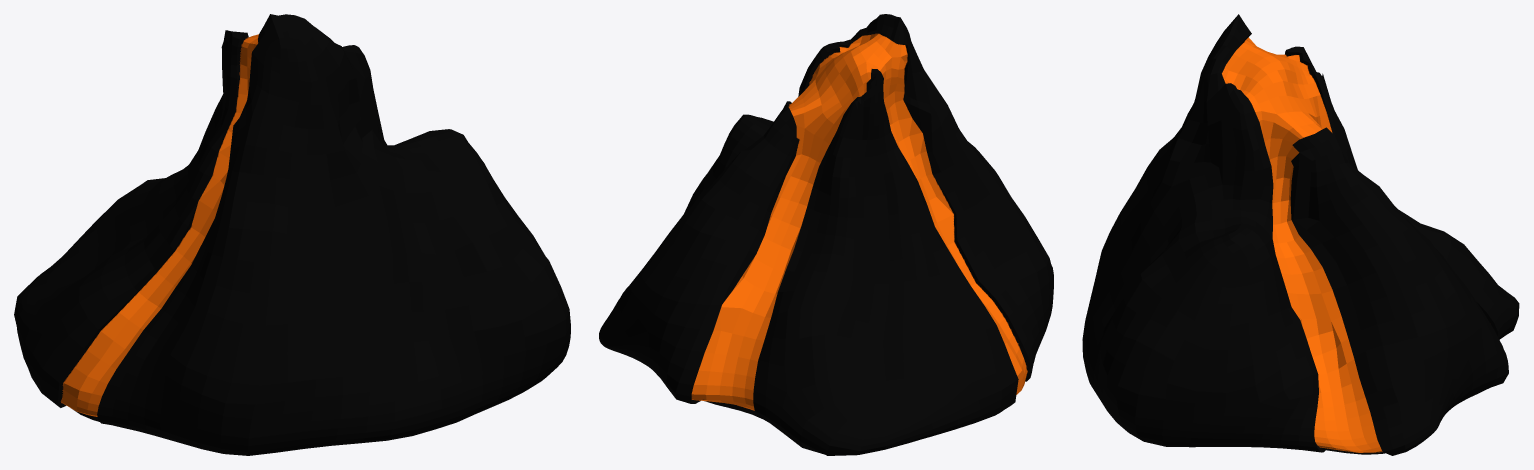
Rendered from vulcan.fbx.
3 views of the same model, side by side, from view 1: azimuth 30°, elevation 25°; view 2: azimuth 150°, elevation 25°; view 3: azimuth 270°, elevation 25° (orthographic). The views are drawn at different scales.
Parts seen in each view (by area): view 1: Retopo_Landscape; view 2: Retopo_Landscape; view 3: Retopo_Landscape.
Boxes of the visible parts, left/top/right/bottom form: Retopo_Landscape: left=14, top=14, right=570, bottom=455; Retopo_Landscape: left=599, top=14, right=1053, bottom=455; Retopo_Landscape: left=1082, top=14, right=1519, bottom=455.
Size of the model in its own units: 183 by 154 by 180.
1 material, 1 textured.
